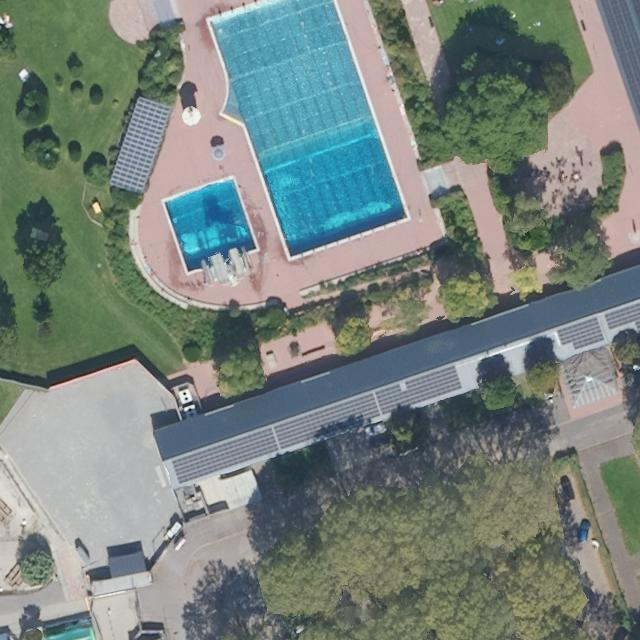PV: (170, 426, 281, 486), (273, 392, 382, 451), (373, 364, 464, 417), (555, 315, 606, 351), (604, 301, 639, 331)
